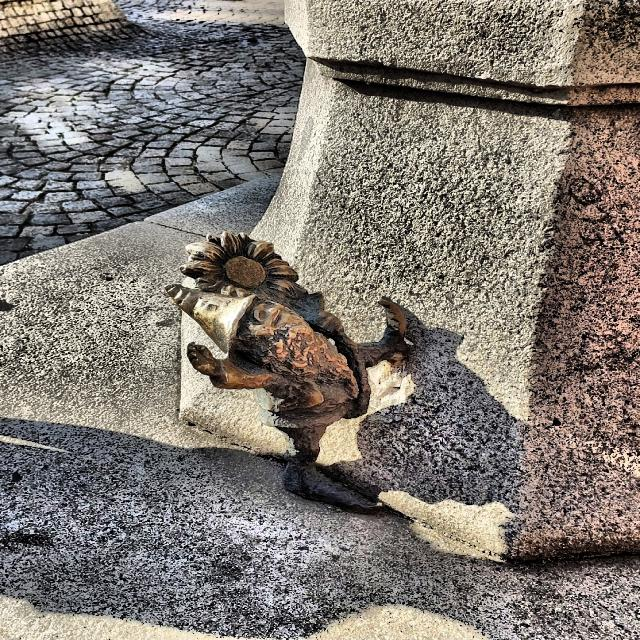Zyczliwek: (166, 231, 410, 512)
